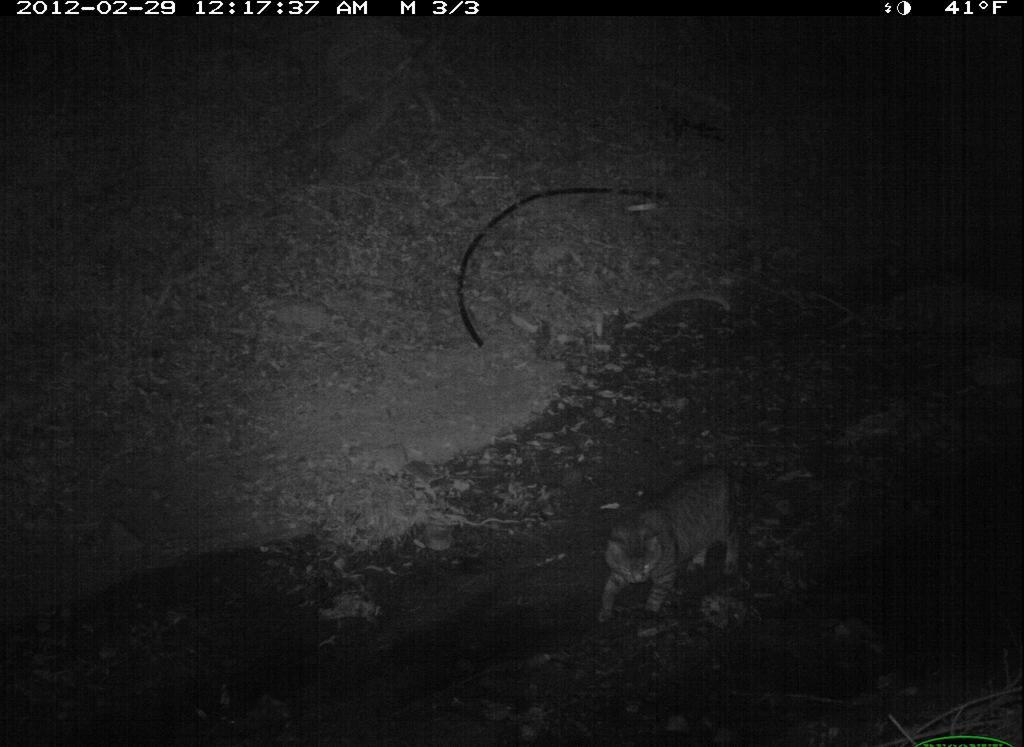cat: (592, 452, 758, 625)
